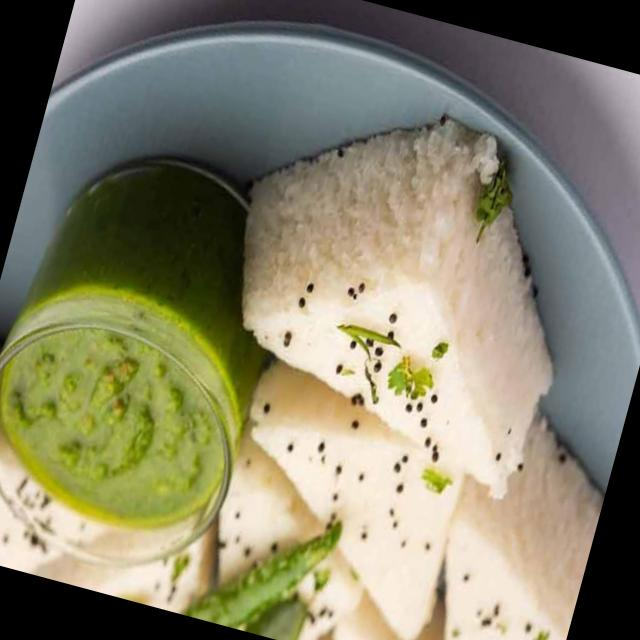dhokla: (163, 93, 640, 640), (0, 362, 70, 571)
